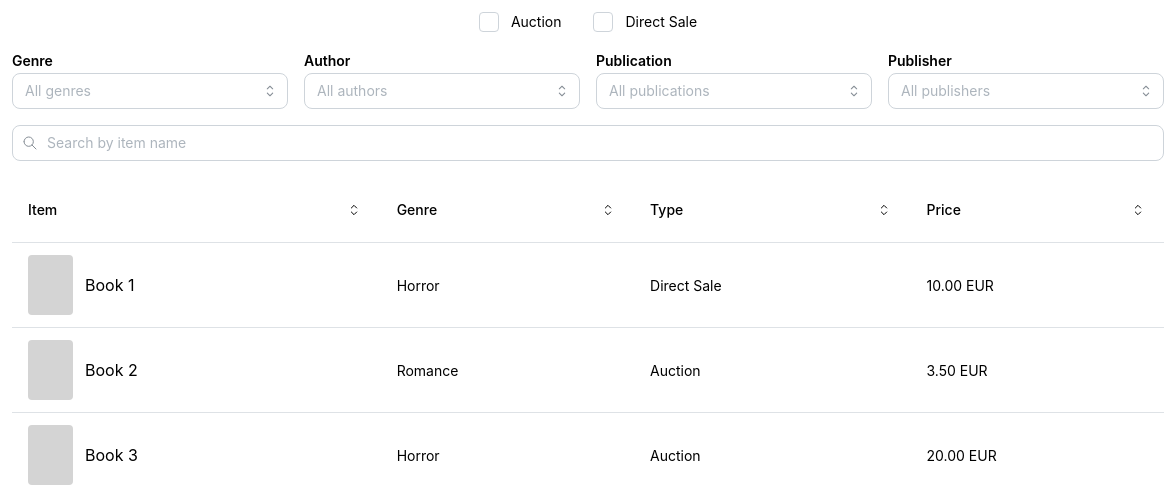
Test: MarketPlaceTable › does not search by genre
Type "Romance" into the field with placeholder "Search by item name" at (588, 143), box x1=12 y1=125 x2=1164 y2=161
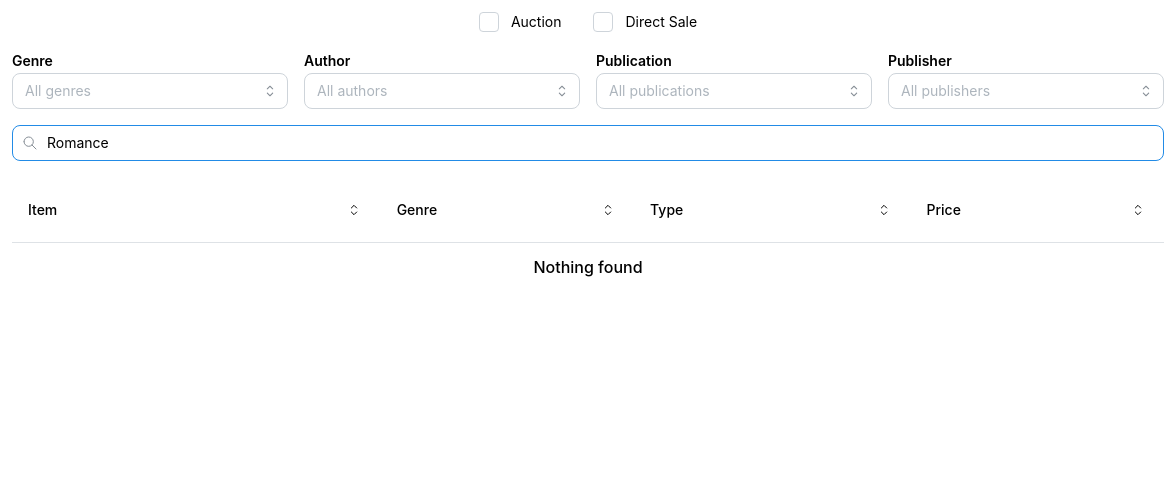
Now the text "Nothing found" is shown, box x1=533 y1=258 x2=642 y2=278
